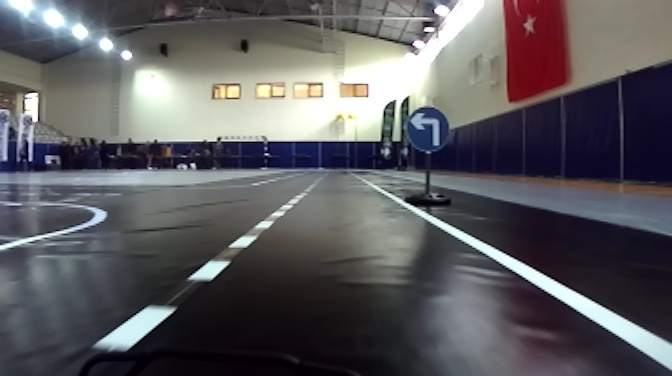sola_donus: (404, 108, 451, 152)
